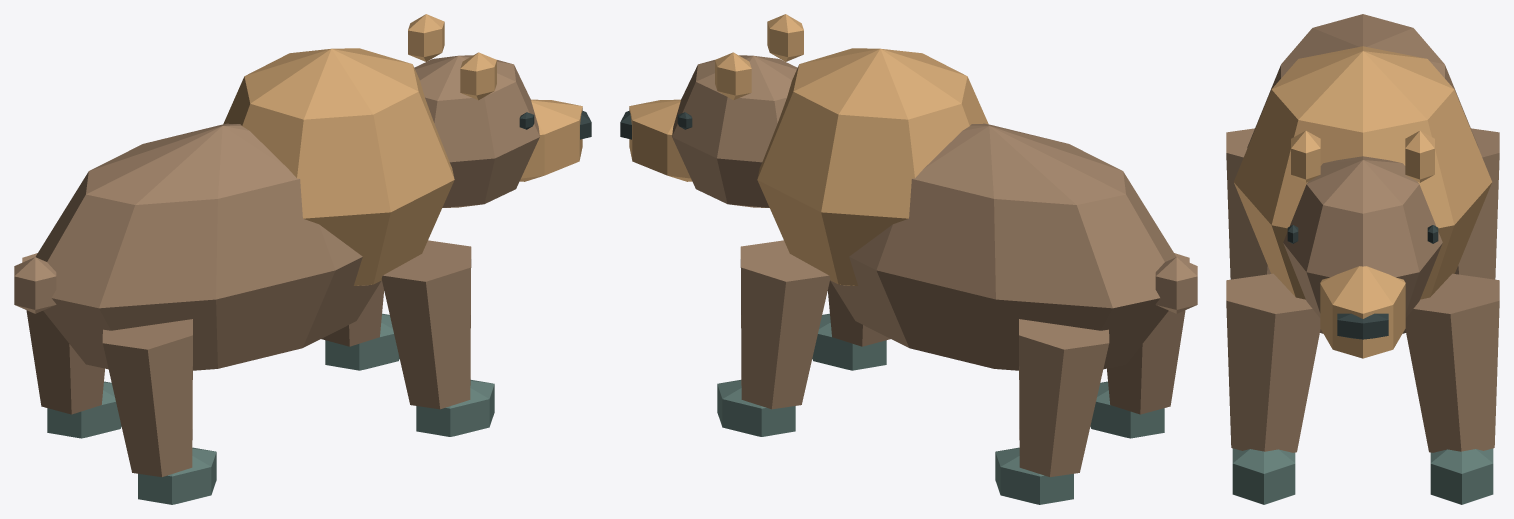
File: chauvet-cave-bear-remains.d7164534035a.glb
3 renders of one model, left to right at view 1: azimuth 30°, elevation 25°; view 2: azimuth 150°, elevation 25°; view 3: azimuth 270°, elevation 25°, orthographic. The views are drawn at different scales.
Visible parts, largest first — view 1: chauvet-cave-bear-remains; view 2: chauvet-cave-bear-remains; view 3: chauvet-cave-bear-remains.
Boxes of the visible parts, <box> form: chauvet-cave-bear-remains: <box>14,14,591,504</box>; chauvet-cave-bear-remains: <box>620,14,1197,504</box>; chauvet-cave-bear-remains: <box>1226,14,1499,504</box>.
Size of the model in its own units: 1 by 0.6235 by 0.38.
